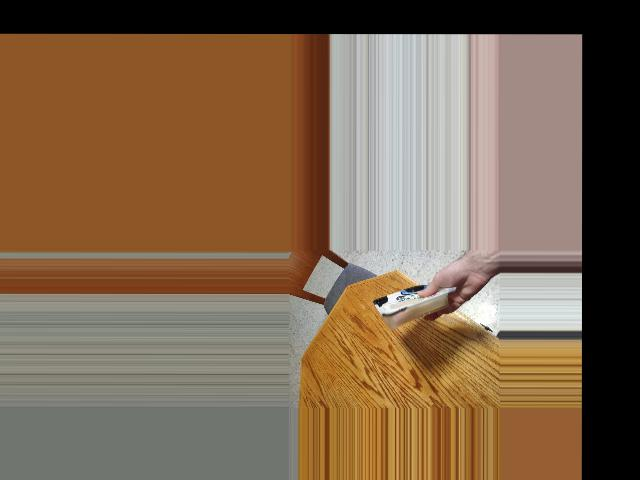cheese: (376, 270, 448, 331)
